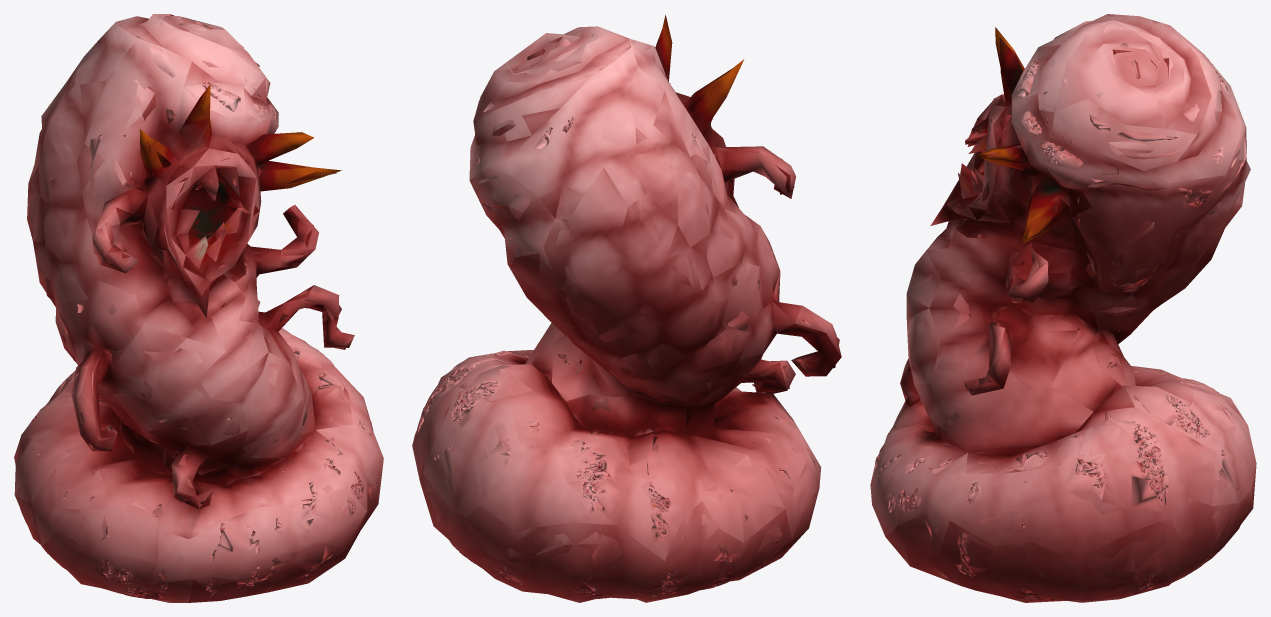
The model's file is SARGH1.obj.
3 renders of one model, left to right at view 1: azimuth 30°, elevation 25°; view 2: azimuth 150°, elevation 25°; view 3: azimuth 270°, elevation 25°, orthographic. The views are drawn at different scales.
Bounding box in the file's own units: 0.6826 × 1.01 × 0.673.
1 material, 1 textured.
